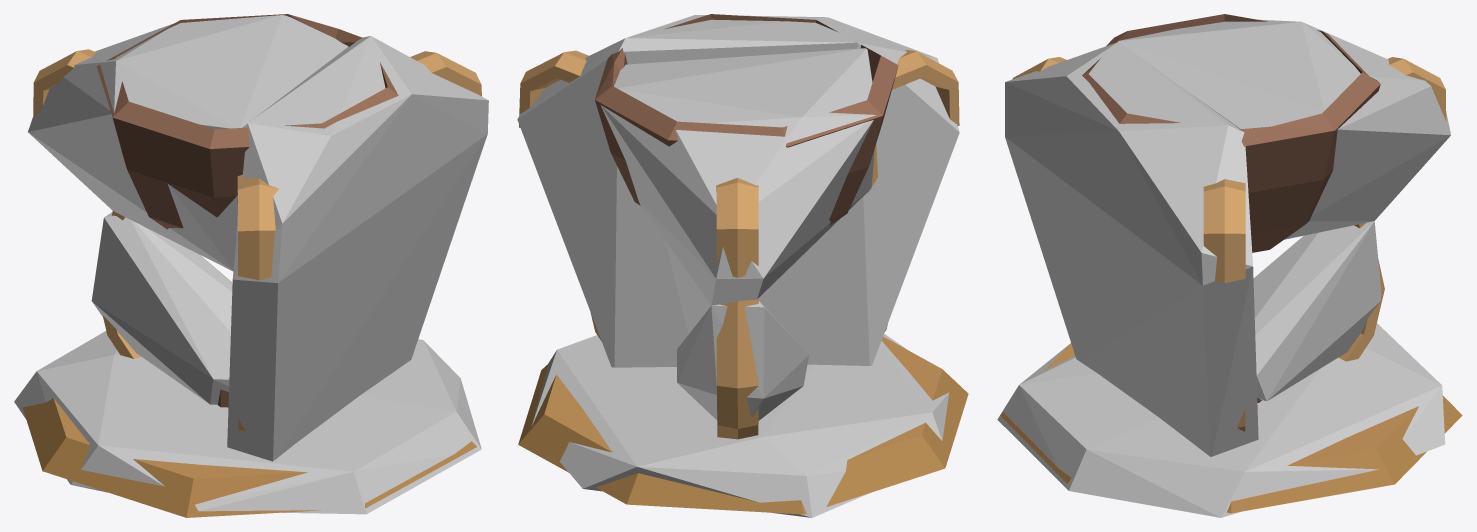
File: SM_Prop_Melting_Pot_01.fbx
3 renders of one model, left to right at view 1: azimuth 30°, elevation 25°; view 2: azimuth 150°, elevation 25°; view 3: azimuth 270°, elevation 25°, orthographic. The views are drawn at different scales.
Visible parts, largest first — view 1: SM_Prop_Melting_Pot_01_ConvexHulls, SM_Prop_Melting_Pot_01; view 2: SM_Prop_Melting_Pot_01_ConvexHulls, SM_Prop_Melting_Pot_01; view 3: SM_Prop_Melting_Pot_01_ConvexHulls, SM_Prop_Melting_Pot_01.
Boxes of the visible parts, left/top/right/bottom form: SM_Prop_Melting_Pot_01_ConvexHulls: left=14, top=15, right=488, bottom=514; SM_Prop_Melting_Pot_01: left=22, top=14, right=481, bottom=517; SM_Prop_Melting_Pot_01_ConvexHulls: left=517, top=15, right=959, bottom=517; SM_Prop_Melting_Pot_01: left=518, top=14, right=968, bottom=514; SM_Prop_Melting_Pot_01_ConvexHulls: left=997, top=19, right=1450, bottom=517; SM_Prop_Melting_Pot_01: left=1000, top=14, right=1462, bottom=513.
Size of the model in its own units: 62.06 by 59.42 by 49.75.
2 materials, 1 textured.
